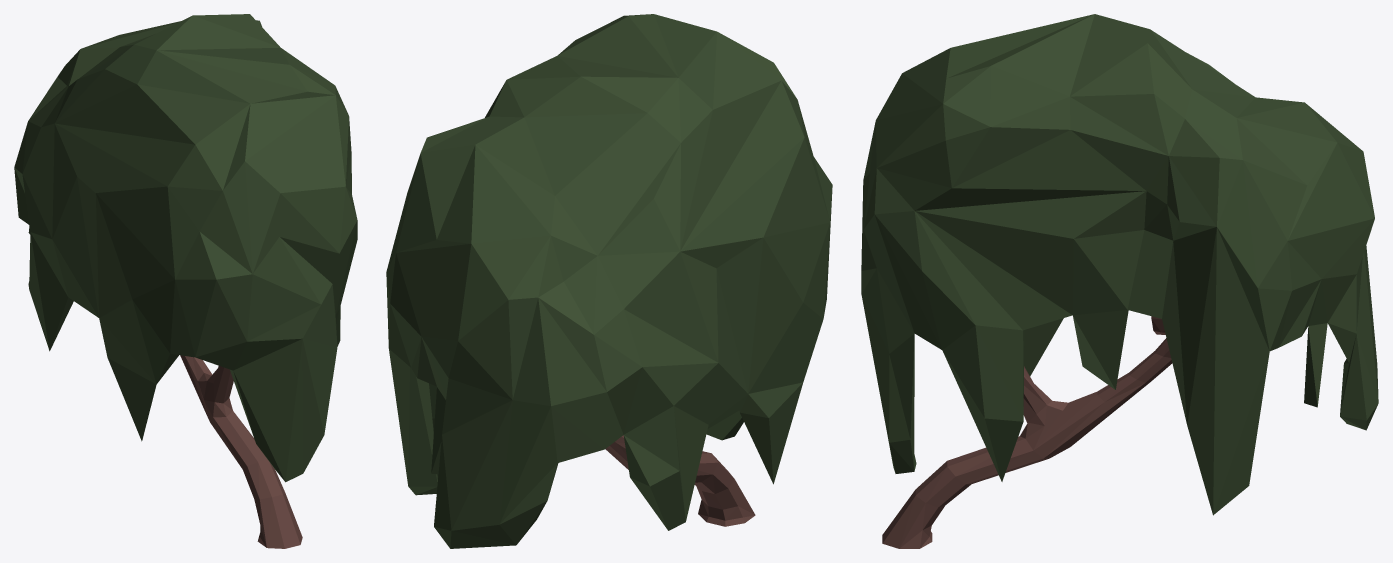
Rendered from Willow_2.glb.
3 renders of one model, left to right at view 1: azimuth 30°, elevation 25°; view 2: azimuth 150°, elevation 25°; view 3: azimuth 270°, elevation 25°, orthographic. The views are drawn at different scales.
Visible parts, largest first — view 1: Willow_2; view 2: Willow_2; view 3: Willow_2.
Part boxes in pixels (x1=…): Willow_2: x1=14, y1=14, x2=357, y2=548; Willow_2: x1=386, y1=14, x2=832, y2=548; Willow_2: x1=861, y1=14, x2=1378, y2=548.
Size of the model in its own units: 1.92 by 3.32 by 3.08.
